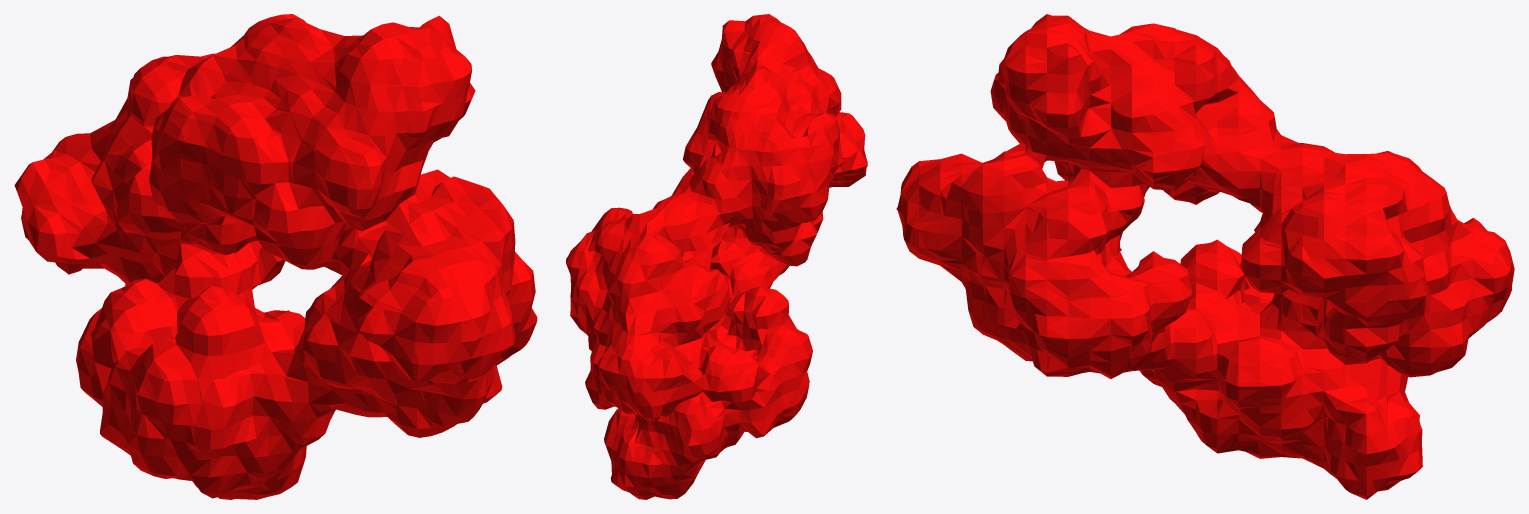
Rendered from carA_coarse.dae.
3 renders of one model, left to right at view 1: azimuth 30°, elevation 25°; view 2: azimuth 150°, elevation 25°; view 3: azimuth 270°, elevation 25°, orthographic. The views are drawn at different scales.
Parts seen in each view (by area): view 1: carA; view 2: carA; view 3: carA.
Part boxes in pixels (left/top/right/bottom): carA: left=14, top=14, right=537, bottom=499; carA: left=566, top=14, right=867, bottom=499; carA: left=896, top=14, right=1514, bottom=499.
Size of the model in its own units: 112 by 201 by 238.
